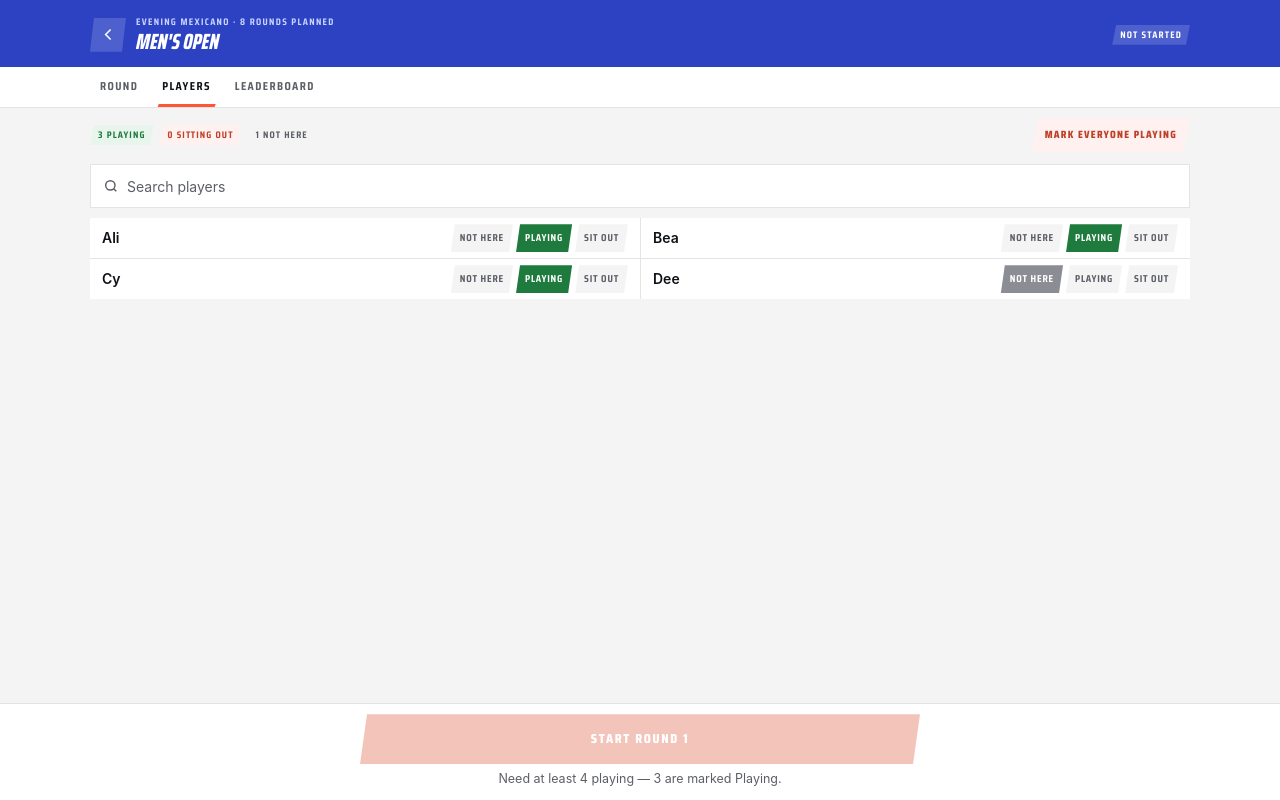
Test: marks everyone who isn't here yet as playing in one request
Expected: the heading "Men's Open" is shown, x1=136 y1=24 x2=219 y2=59
Step 1. Click the button "Mark everyone playing" → (1111, 135), box x1=1032 y1=118 x2=1190 y2=152
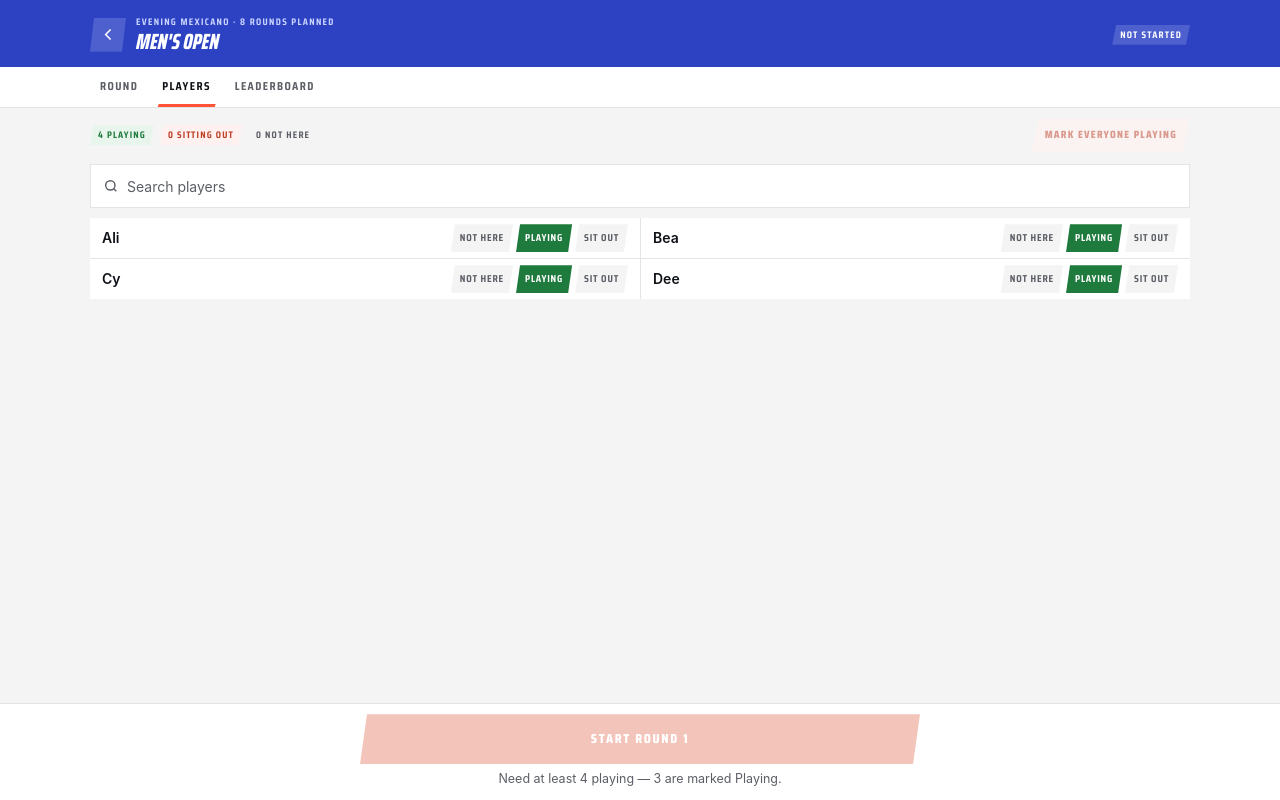
Expected: the text "0 sitting out" is shown, x1=160 y1=125 x2=242 y2=145
Result: the text "4 playing" is shown at x1=90 y1=125 x2=154 y2=145
Result: the text "0 not here" is shown at x1=248 y1=125 x2=318 y2=145
